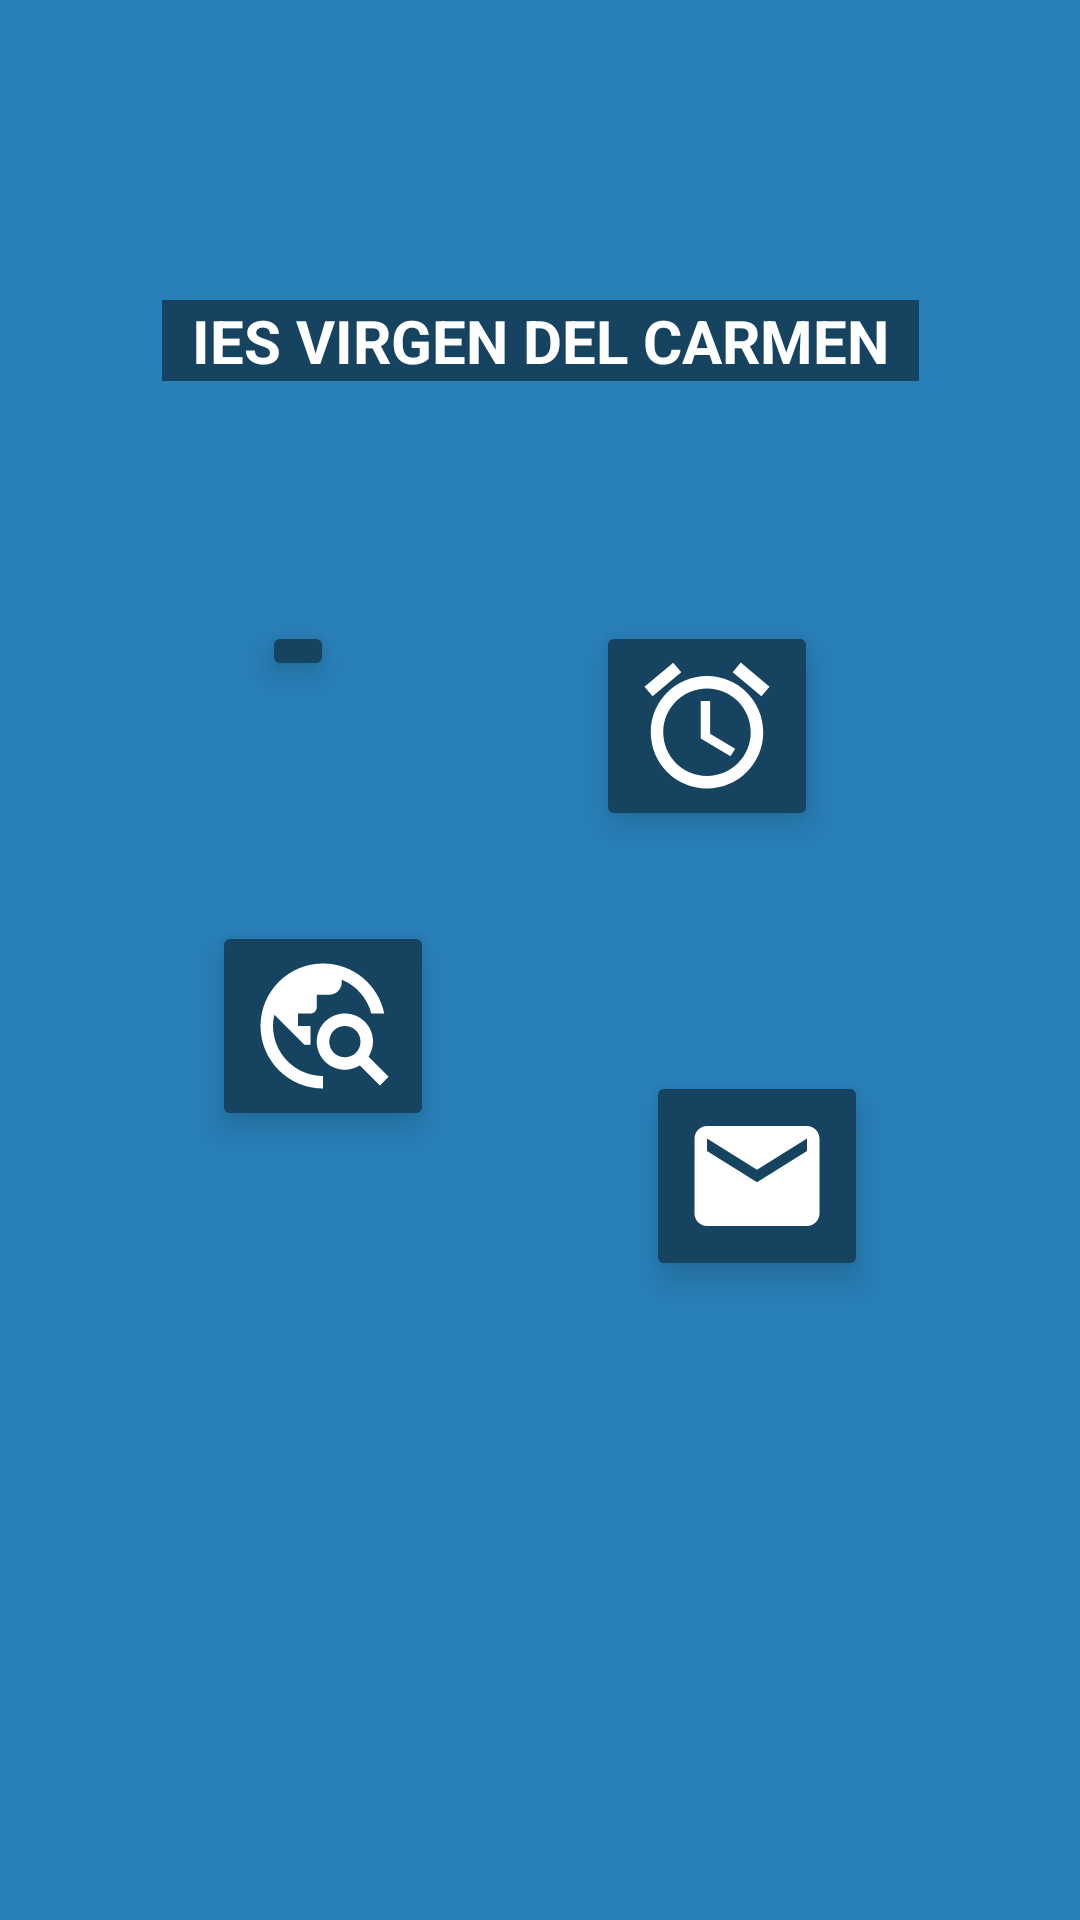

Icon bounding boxes for this 1080w x 1920h phone screenshot, format (x1, y1, x2, y2):
alarm: (608, 639, 806, 813)
email: (658, 1089, 856, 1269)
url: (224, 939, 422, 1113)
